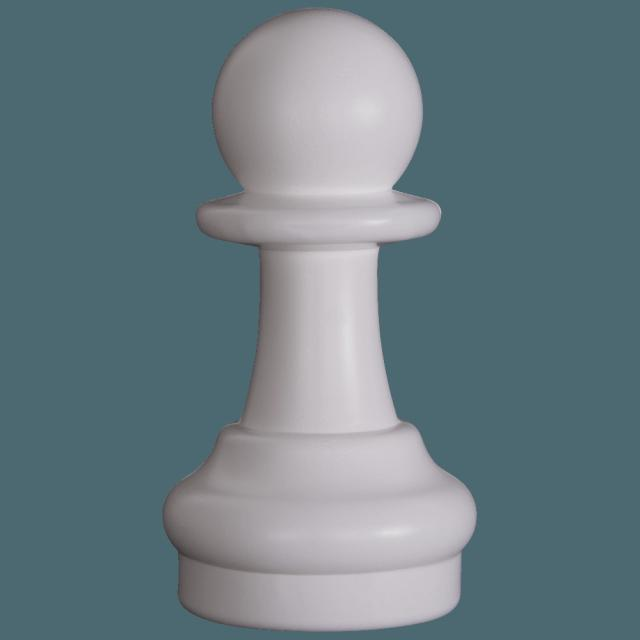white-pawn: (160, 6, 479, 631), (596, 204, 598, 206)
